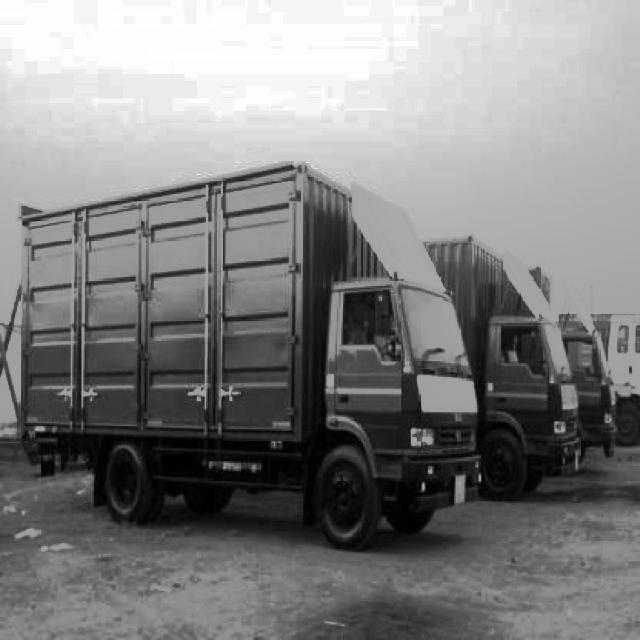HCV: (16, 180, 462, 600), (429, 192, 564, 494), (552, 275, 613, 470)
